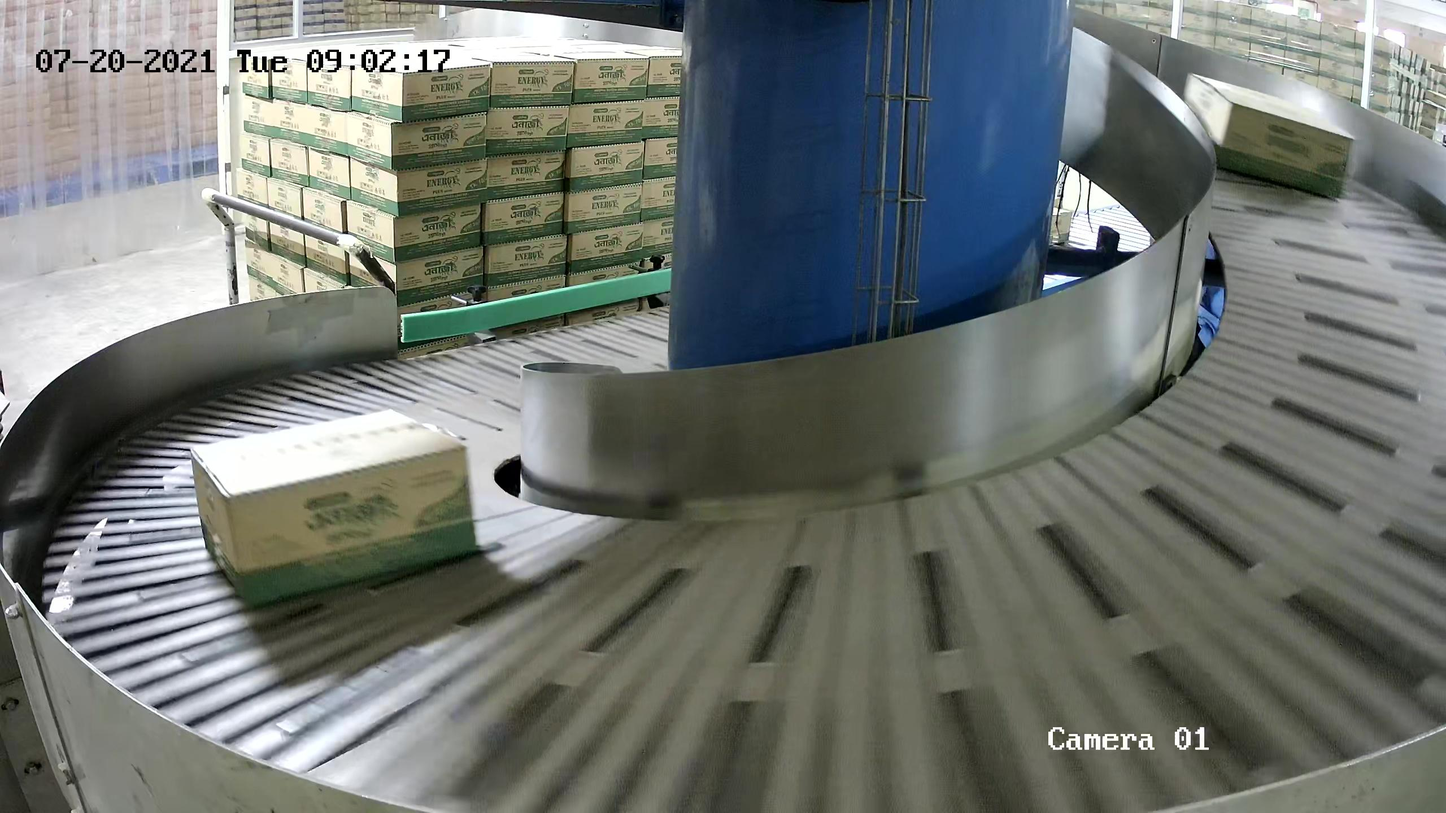Box: (187, 403, 483, 611), (1181, 69, 1357, 201)
